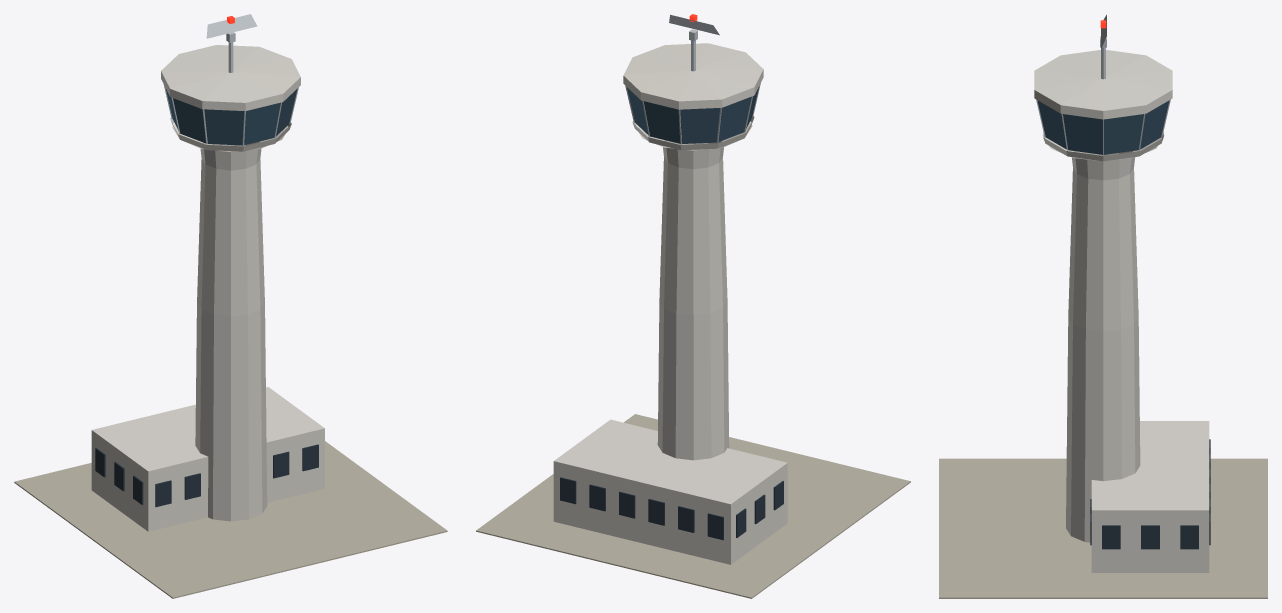
The model's file is control_tower.glb.
3 renders of one model, left to right at view 1: azimuth 30°, elevation 25°; view 2: azimuth 150°, elevation 25°; view 3: azimuth 270°, elevation 25°, orthographic. The views are drawn at different scales.
Visible parts, largest first — view 1: Control_static, spinY_s120_radar; view 2: Control_static; view 3: Control_static.
Part boxes in pixels (<box>): Control_static: <box>14,16,447,598</box>; spinY_s120_radar: <box>206,14,257,42</box>; Control_static: <box>476,14,910,598</box>; Control_static: <box>939,20,1267,598</box>.
Bounding box in the file's own units: 28 × 47.7 × 28.
